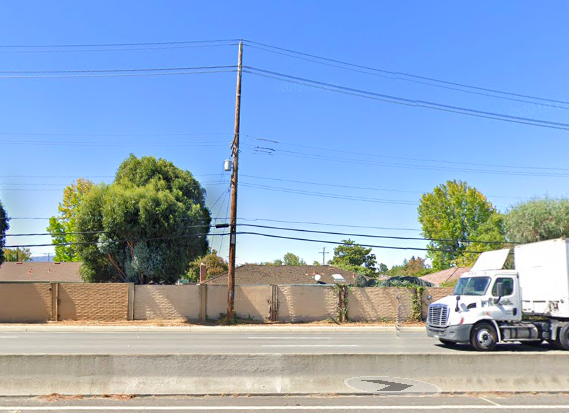tree: (47, 151, 211, 287)
utility_pole: (209, 30, 259, 177)
